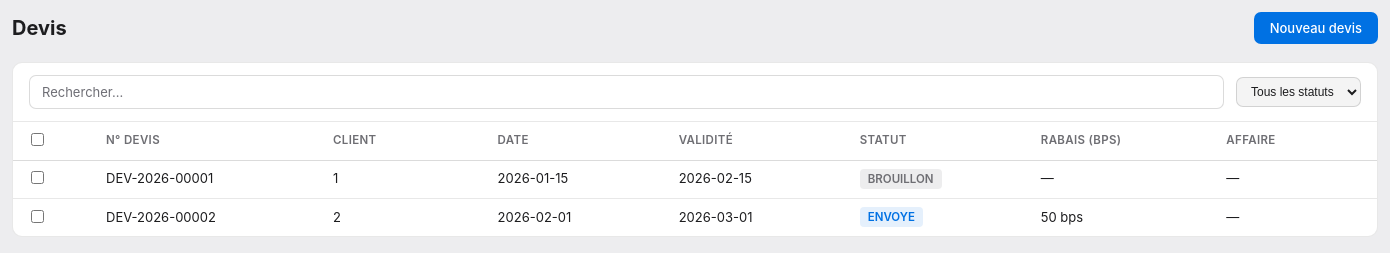
R11 - Liste Devis › réinitialise le filtre quand on sélectionne "Tous les statuts"
Check: the text "DEV-2026-00001" is shown, box [92,160,319,198]
Step 1. Select "ENVOYE" in the dropdown → (1298, 92), box [1236,77,1361,107]
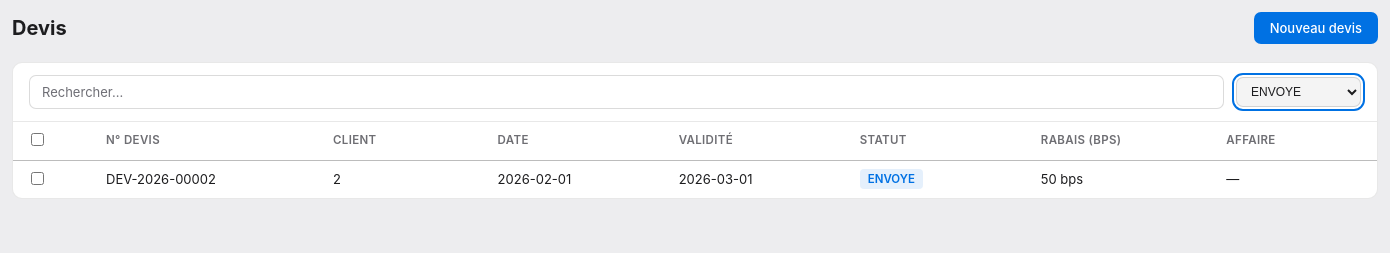
Check: the text "DEV-2026-00001" is gone
Step 2. Select "Tous les statuts" in the dropdown → (1298, 92), box [1236,77,1361,107]
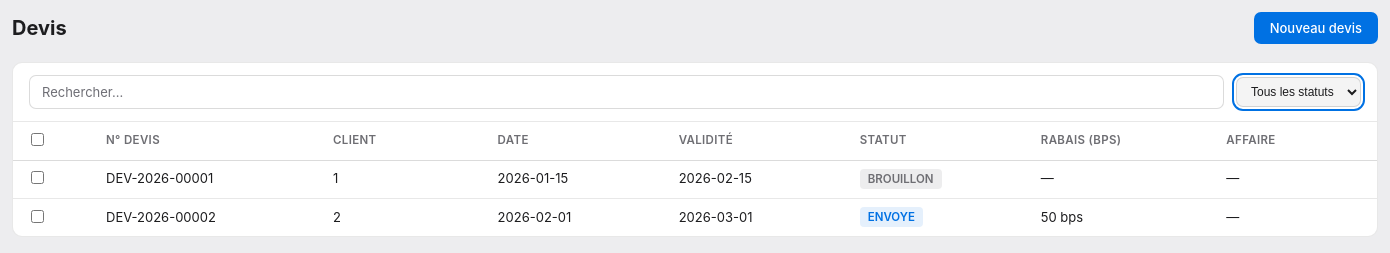
Check: the text "DEV-2026-00002" is shown, box [92,198,319,236]
Check: the text "DEV-2026-00001" is shown, box [92,160,319,198]
